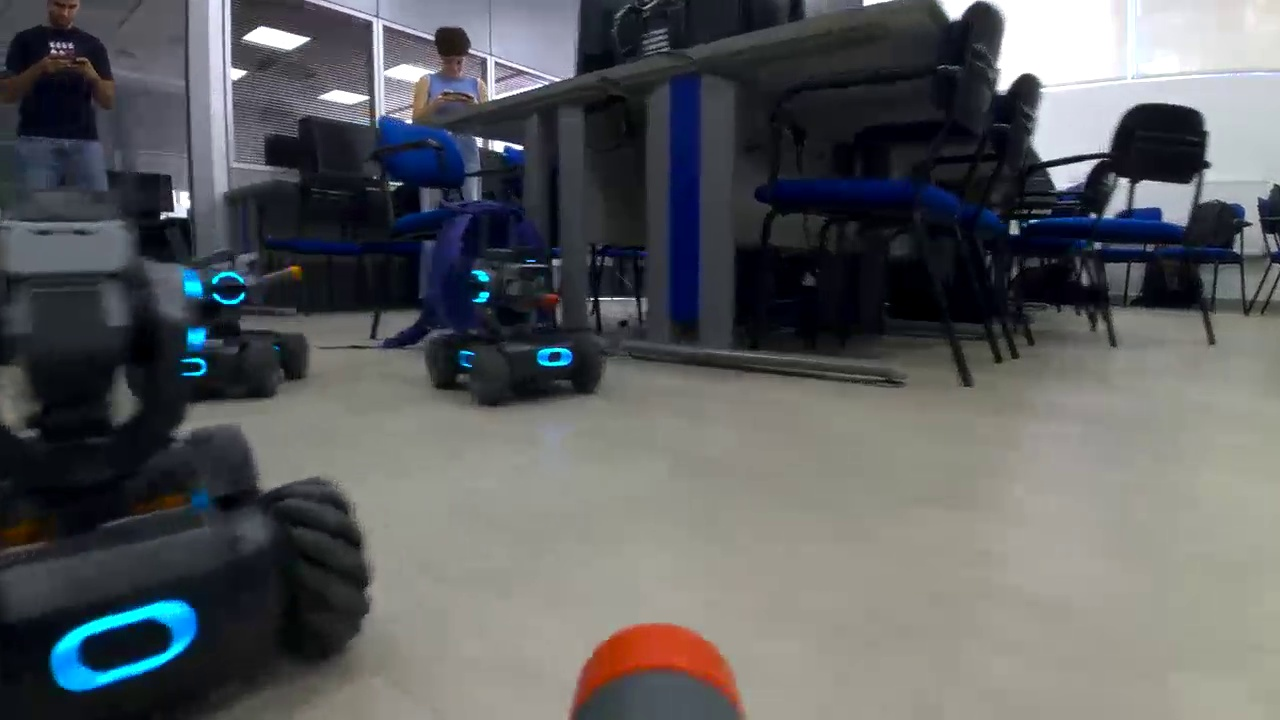robot: (1, 185, 371, 720), (427, 235, 608, 410), (156, 240, 318, 405)
